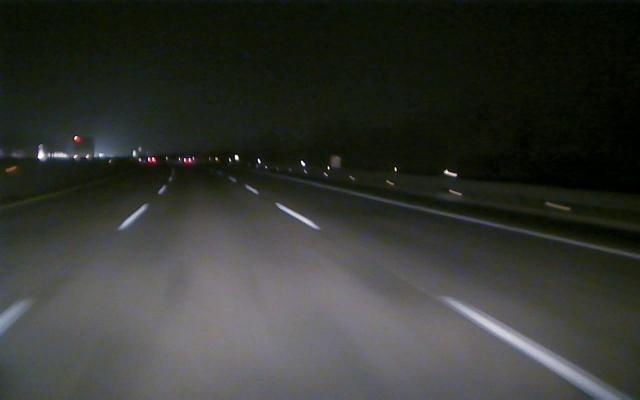lane: (272, 201, 628, 399), (356, 193, 637, 260)
